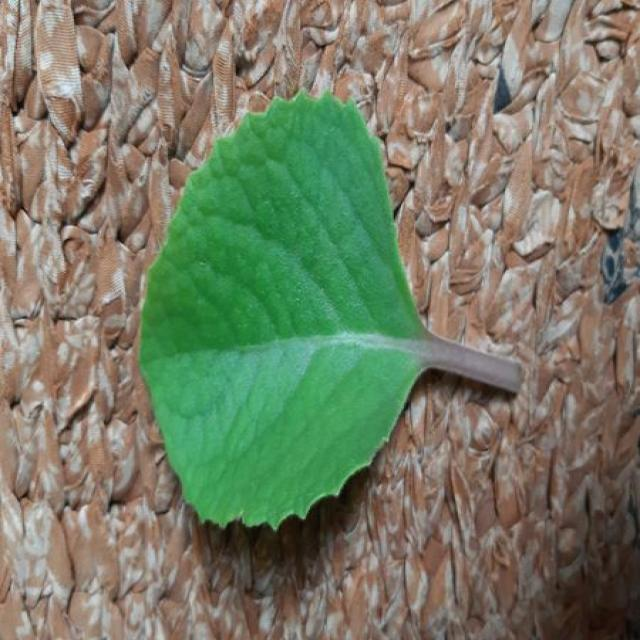doddpathre: (142, 94, 522, 527)
